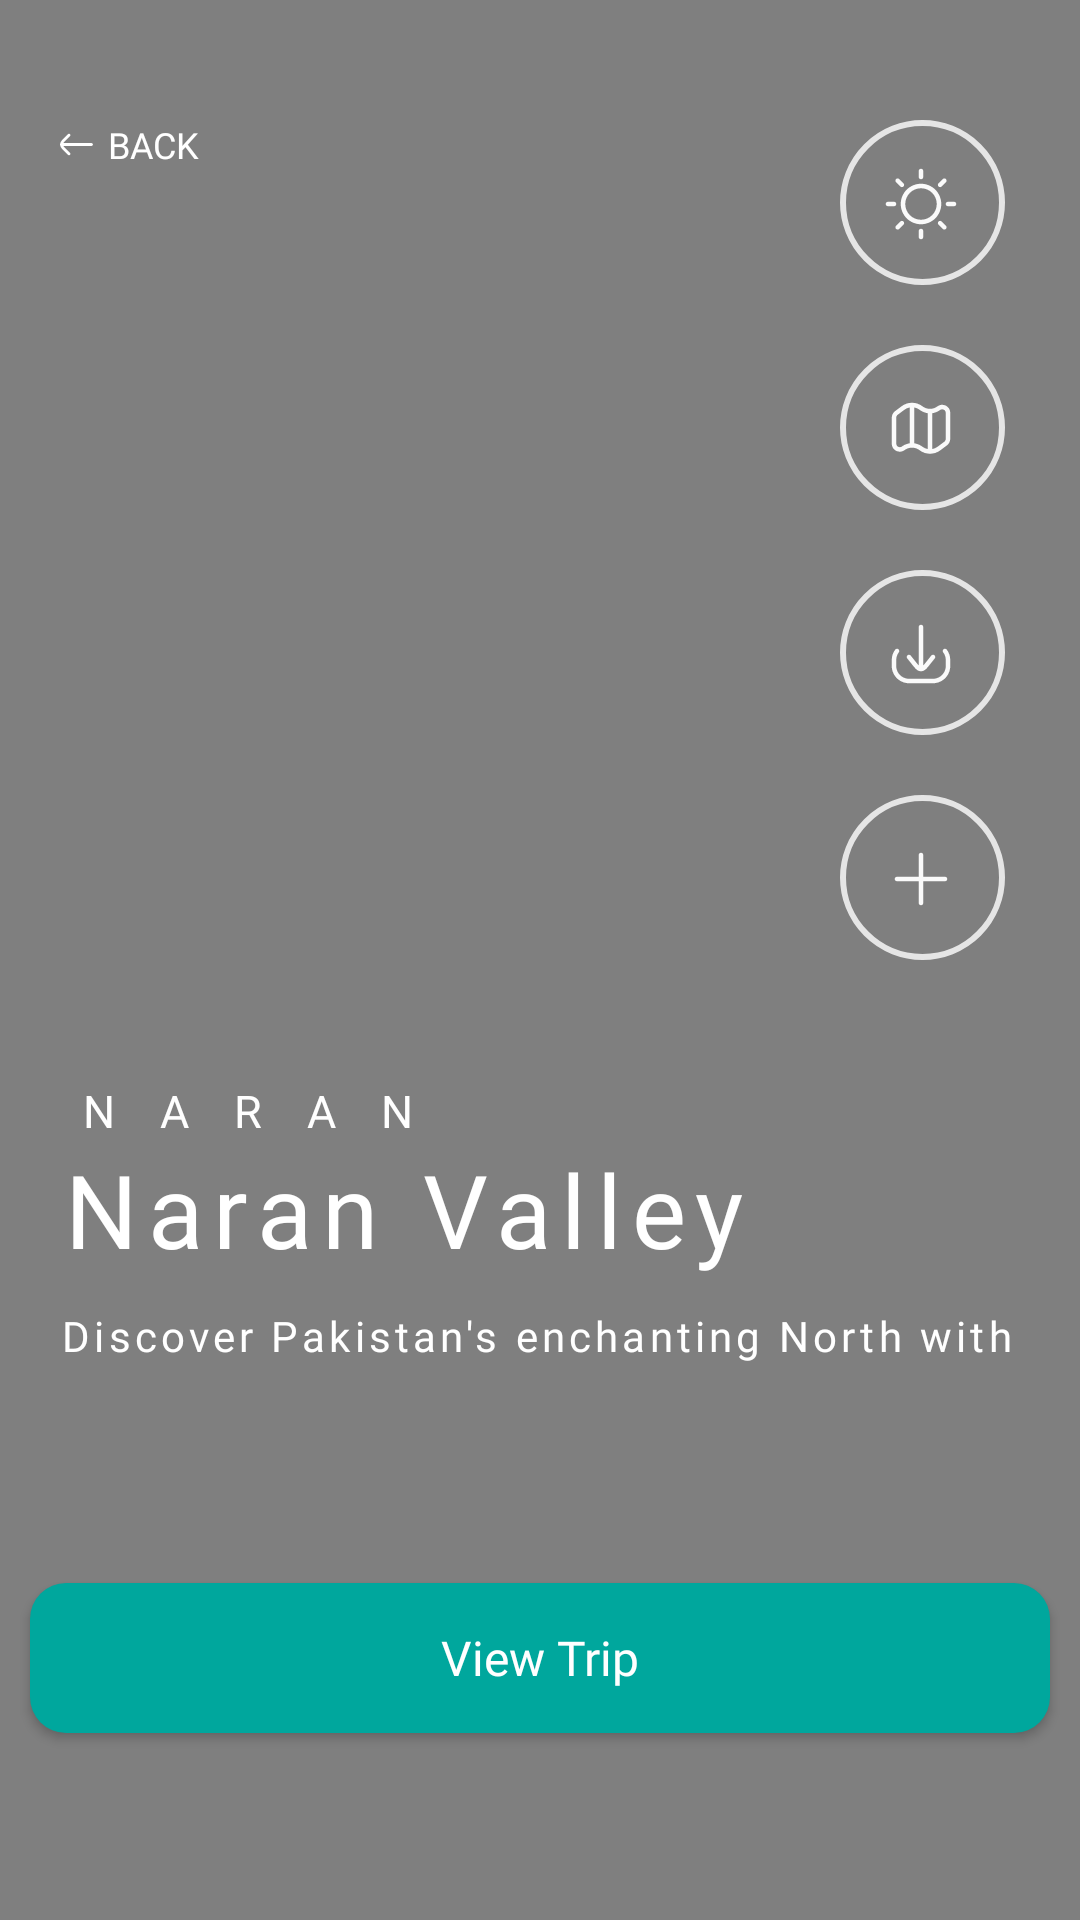

Icon click points for this 1080 × 1920 phone screenshot, format [x,y]:
download: [922,652]
map: [922,427]
more: [922,877]
weather: [922,202]
